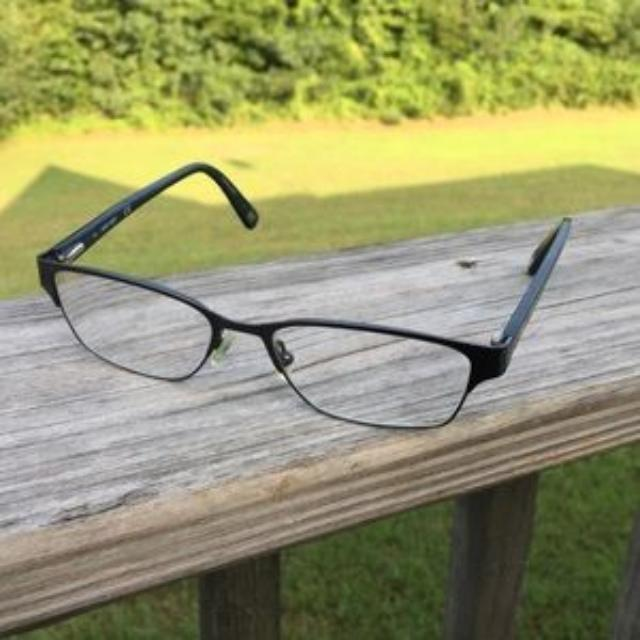glasses: (34, 161, 574, 433)
